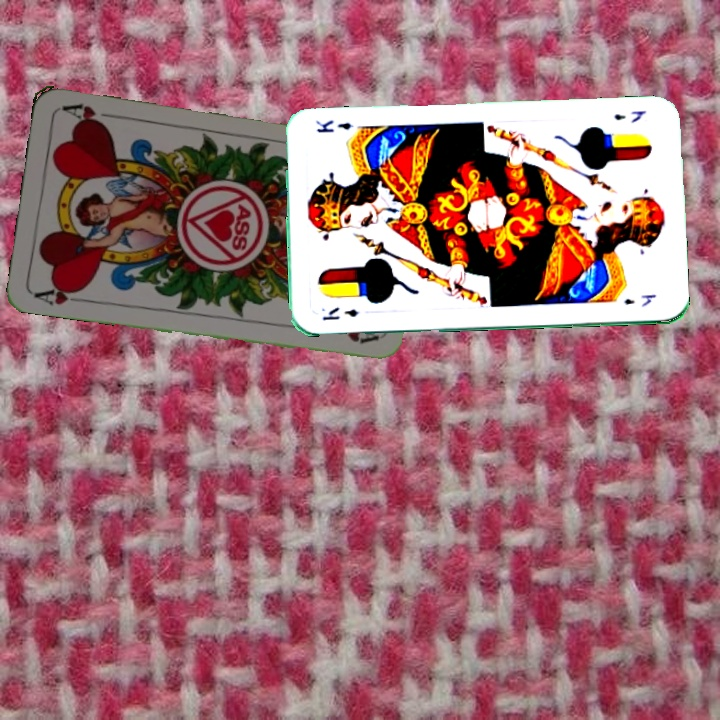EK: (318, 303, 361, 323), (610, 107, 648, 125)
HA: (30, 281, 90, 308)
